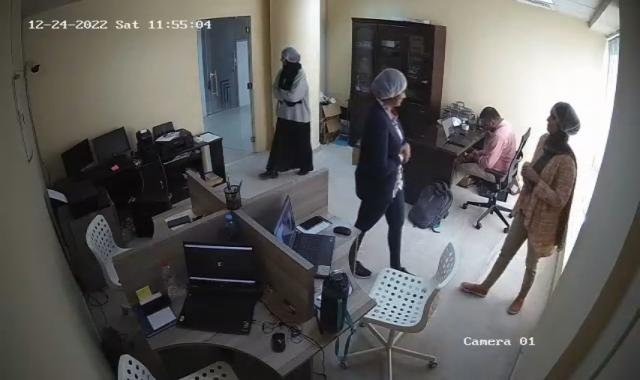hairnet: (369, 68, 407, 107), (546, 102, 580, 144), (280, 47, 301, 68)
no_hairnet: (480, 107, 502, 133)
